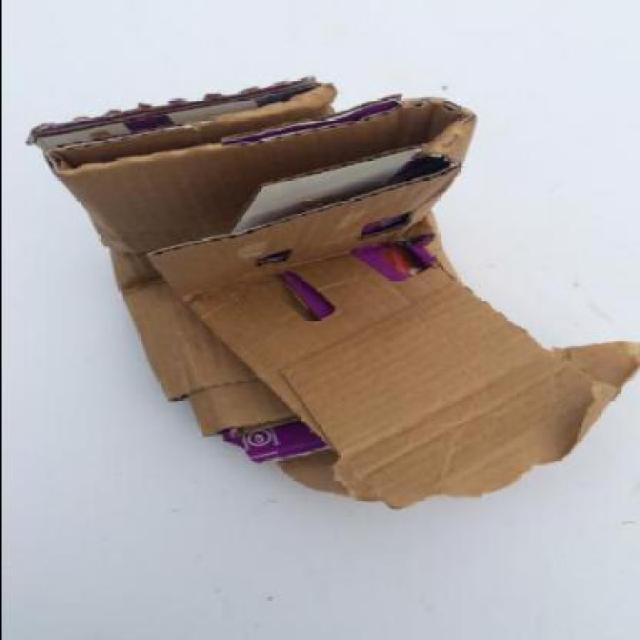CARDBOARD: (40, 75, 638, 508), (46, 93, 639, 504), (147, 148, 638, 508)
